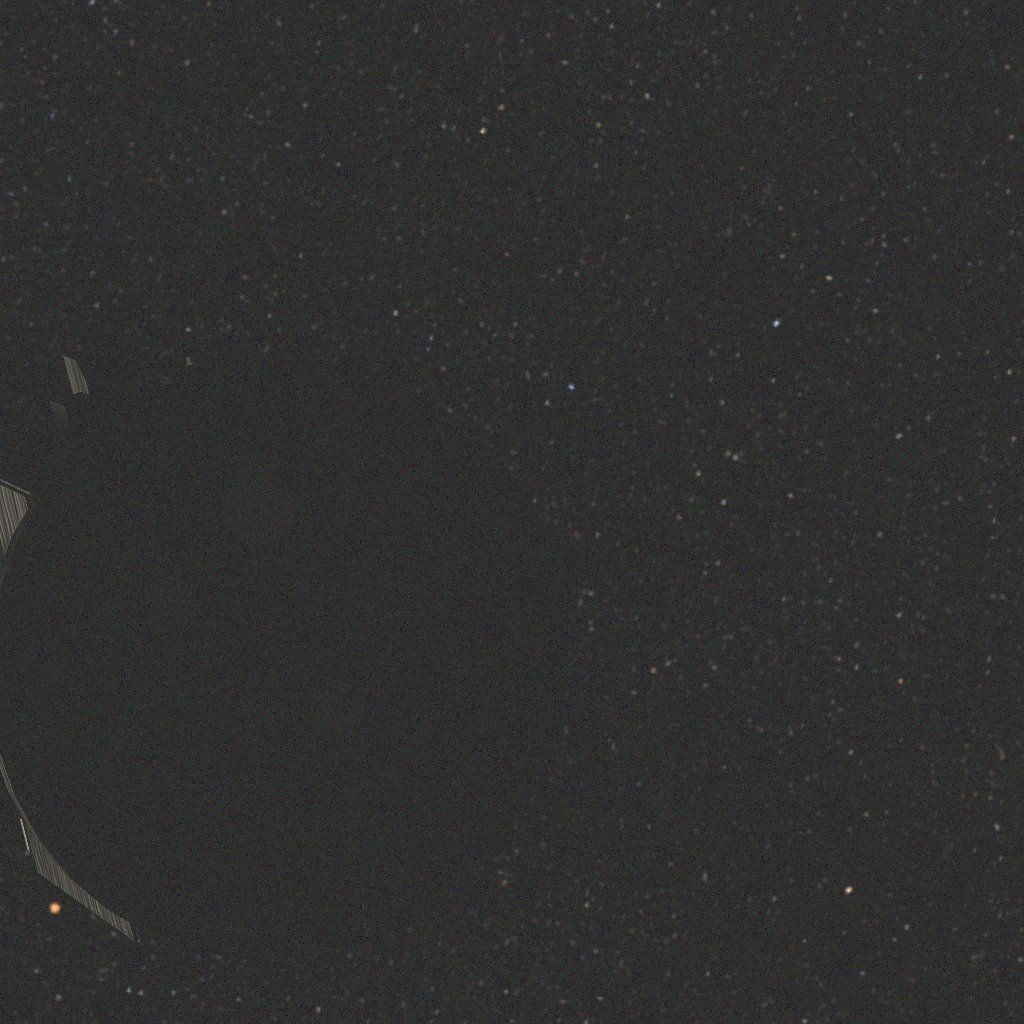proba_3_ocs: (0, 342, 569, 960)
